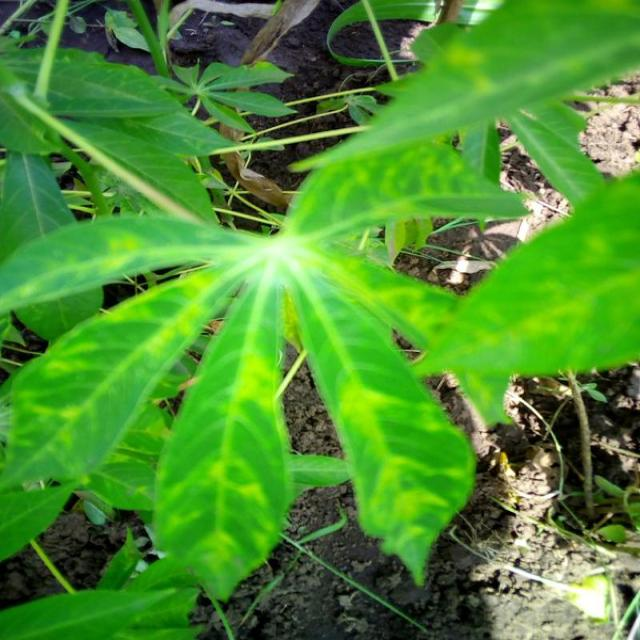cassava leaf: (1, 2, 638, 615), (150, 272, 294, 602)
